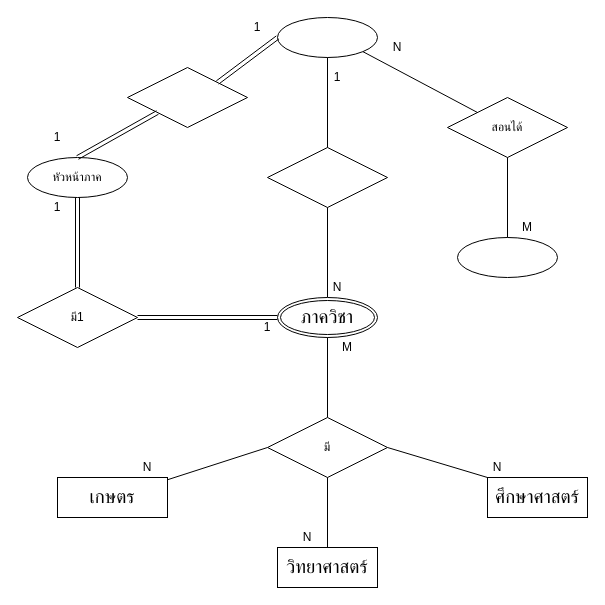
Image size: 605x605. Some labels were removed from this diagram. Each missing label, with the centre of its shape:
ประกอบด้วย: pixel 327 177
มี2: pixel 187 97
วิชา: pixel 507 257
อาจารย์: pixel 327 37
